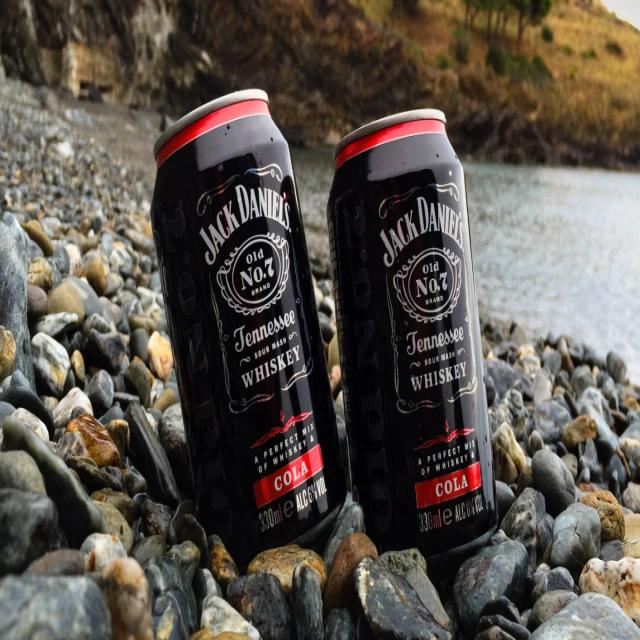can: (149, 90, 348, 564), (326, 108, 500, 560)
